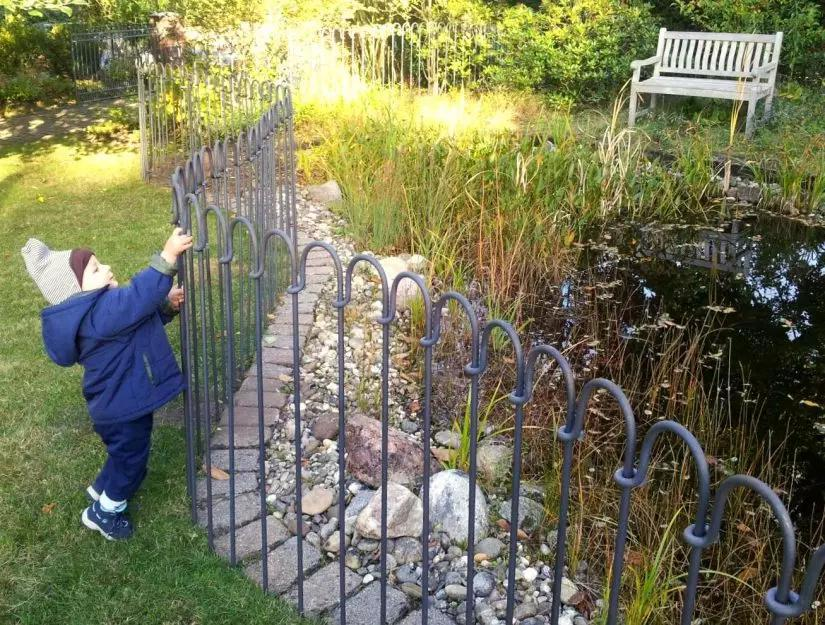child: (9, 226, 200, 548)
